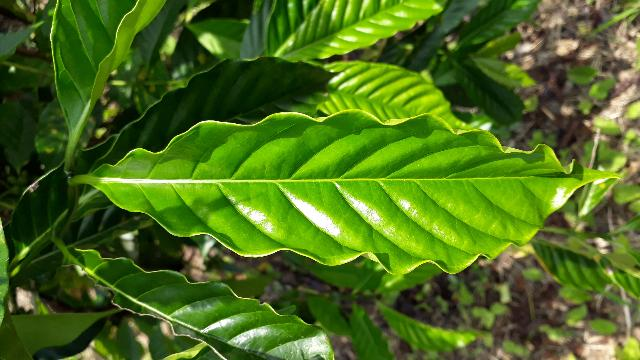healthy: (73, 105, 633, 276)
